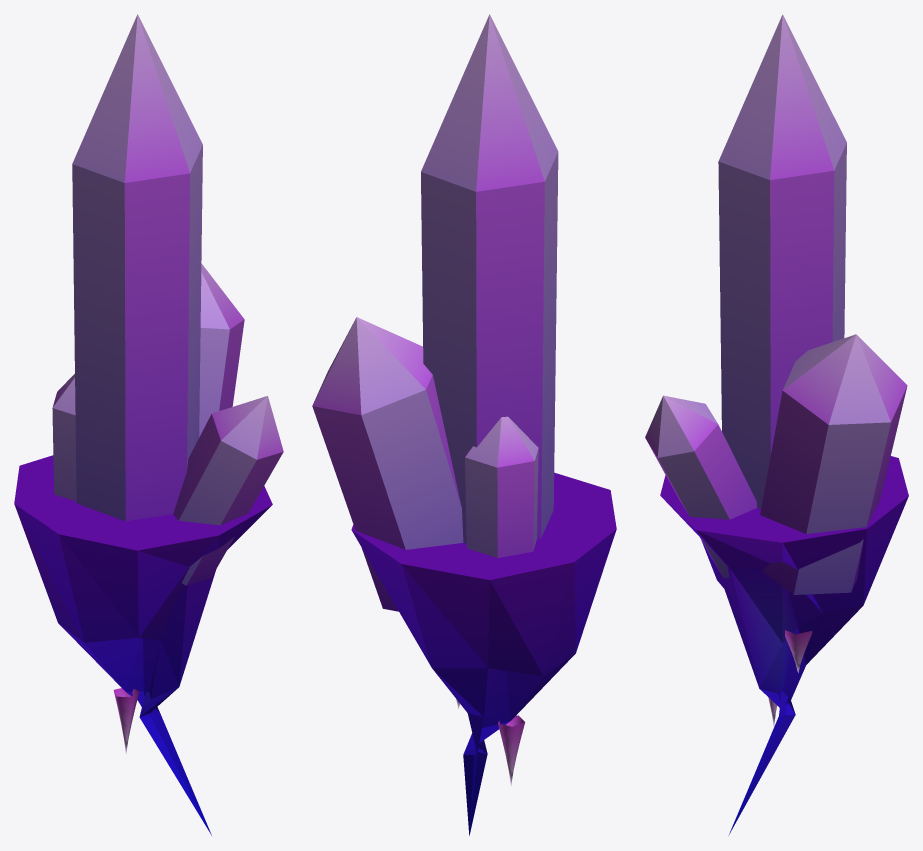
The model's file is Kit_Crystal_Cluster_B.fbx.
The picture shows the model from 3 angles, left to right: view 1: azimuth 30°, elevation 25°; view 2: azimuth 150°, elevation 25°; view 3: azimuth 270°, elevation 25°; orthographic projection. The views are drawn at different scales.
Parts seen in each view (by area): view 1: Crystal_Cluster_B; view 2: Crystal_Cluster_B; view 3: Crystal_Cluster_B.
Boxes of the visible parts, box(x1,y1,x2,y2) form: Crystal_Cluster_B: box(14, 14, 283, 835); Crystal_Cluster_B: box(312, 14, 616, 835); Crystal_Cluster_B: box(645, 14, 908, 835).
Size of the model in its own units: 1.76 by 5.91 by 1.77.
